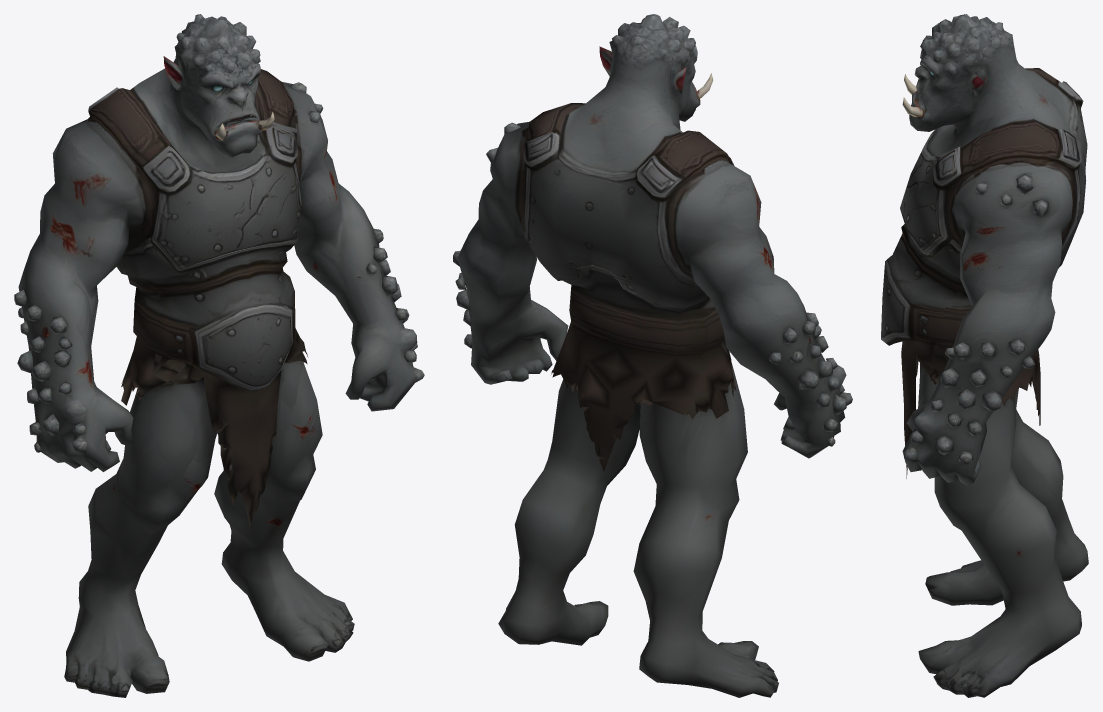
Rendered from 019f4137-fa5c-7edb-ba8f-50b4579644b3.glb.
3 views of the same model, side by side, from view 1: azimuth 30°, elevation 25°; view 2: azimuth 150°, elevation 25°; view 3: azimuth 270°, elevation 25° (orthographic). The views are drawn at different scales.
Parts seen in each view (by area): view 1: tripo_node_2adceaa4-5897-417b-b7de-93b1d39df2b4; view 2: tripo_node_2adceaa4-5897-417b-b7de-93b1d39df2b4; view 3: tripo_node_2adceaa4-5897-417b-b7de-93b1d39df2b4.
Boxes of the visible parts, box(x1,y1,x2,y2) form: tripo_node_2adceaa4-5897-417b-b7de-93b1d39df2b4: box(14, 14, 424, 697); tripo_node_2adceaa4-5897-417b-b7de-93b1d39df2b4: box(453, 14, 852, 697); tripo_node_2adceaa4-5897-417b-b7de-93b1d39df2b4: box(881, 14, 1088, 697).
Bounding box in the file's own units: 0.6035 × 0.998 × 0.3027.
1 material, 1 textured.
